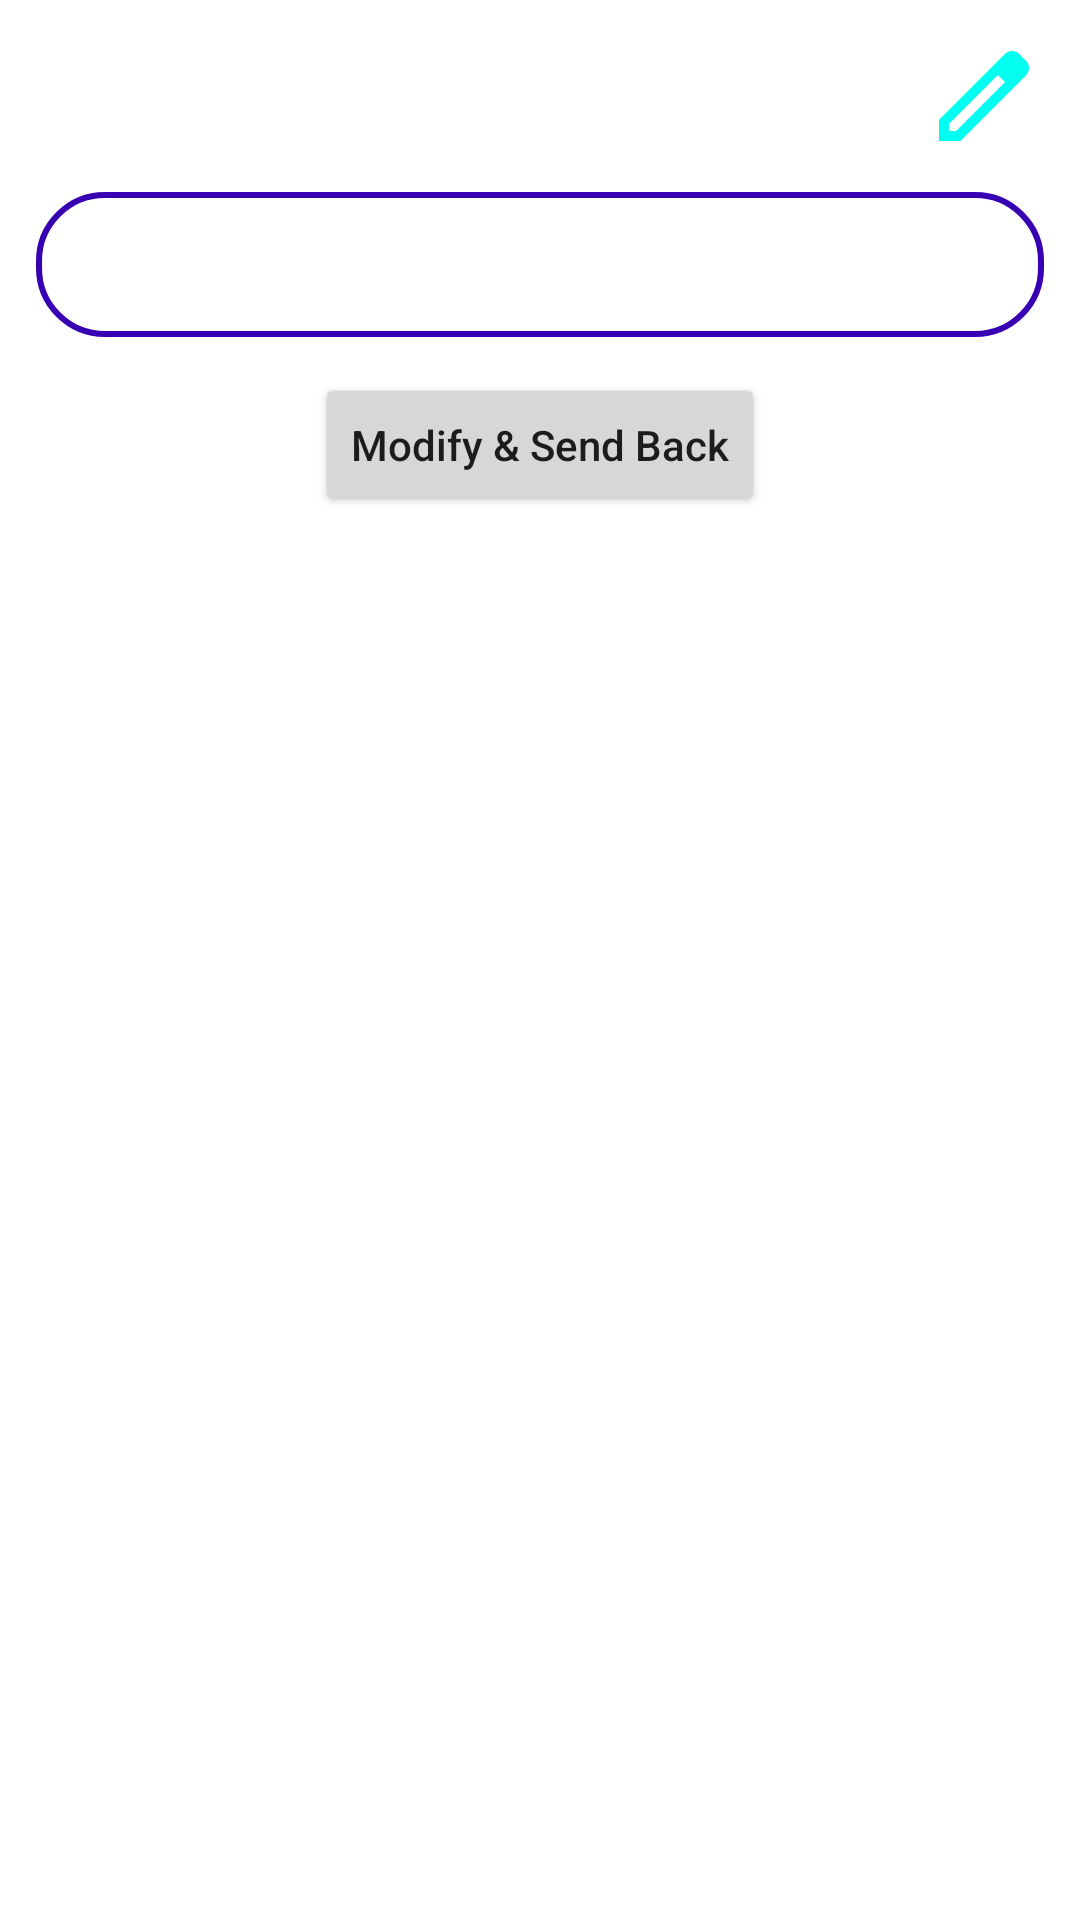

Locate icon controls on the screen. Image size 1080px×1920px, boxes as (x1, y1, x2, y2).
edit: (939, 51, 1029, 141)
